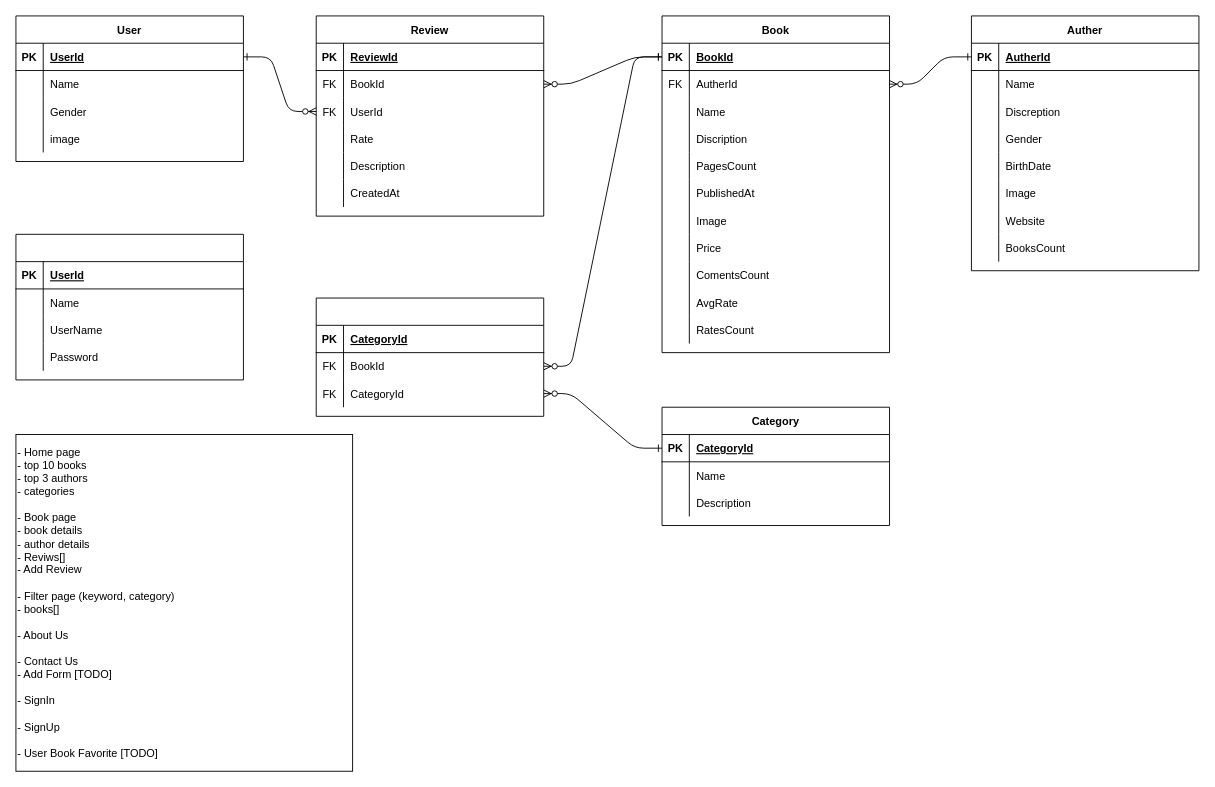
This 1215x787 diagram has some shape labels left out. The shapes that lost their labels are listed below. From the top down, each one's box as (x1, y1, x2, y2) in pixels, then its label:
(15, 233, 243, 380): ِAdmin
(315, 297, 544, 416): BookCategory
